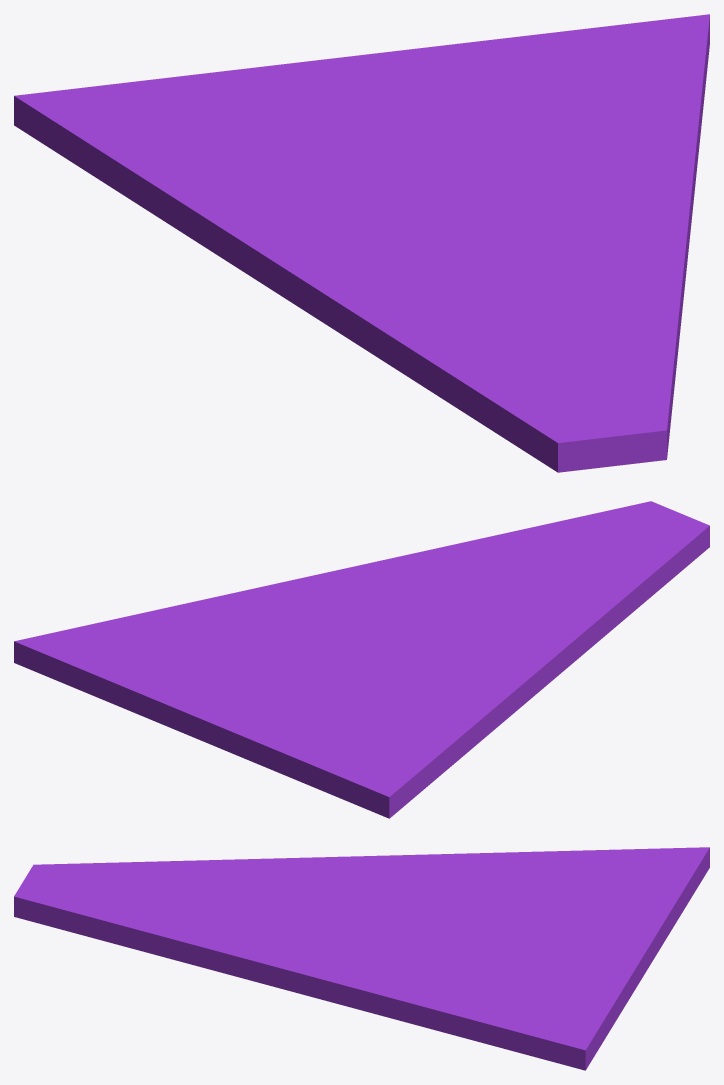
Rendered from StairsStep_49_chunks.fbx.
The picture shows the model from 3 angles, top to bottom: view 1: azimuth 30°, elevation 25°; view 2: azimuth 150°, elevation 25°; view 3: azimuth 270°, elevation 25°; orthographic projection. The views are drawn at different scales.
Visible parts, largest first — view 1: StairsStep_49_0, StairsStep_49_3, StairsStep_49_2; view 2: StairsStep_49_0, StairsStep_49_3, StairsStep_49_2, StairsStep_49_1; view 3: StairsStep_49_3, StairsStep_49_0, StairsStep_49_2, StairsStep_49_1.
Boxes of the visible parts, bbox=[...] form: StairsStep_49_0: bbox=[14, 57, 479, 343]; StairsStep_49_3: bbox=[347, 14, 709, 263]; StairsStep_49_2: bbox=[355, 249, 685, 472]; StairsStep_49_0: bbox=[202, 617, 590, 818]; StairsStep_49_3: bbox=[14, 560, 448, 735]; StairsStep_49_2: bbox=[382, 501, 709, 647]; StairsStep_49_1: bbox=[14, 656, 203, 741]; StairsStep_49_3: bbox=[255, 911, 650, 1063]; StairsStep_49_0: bbox=[285, 847, 709, 967]; StairsStep_49_2: bbox=[14, 858, 332, 980]; StairsStep_49_1: bbox=[253, 965, 648, 1070].
Size of the model in its own units: 384 by 17.94 by 556.
